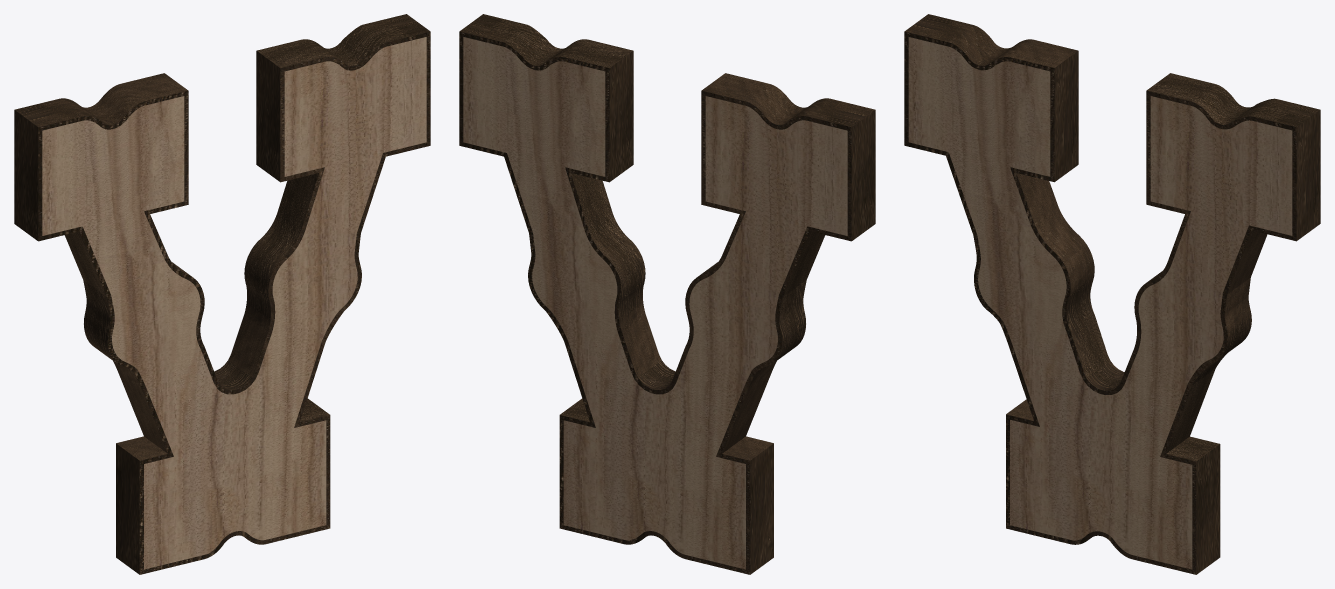
3 views of the same model, side by side, from view 1: azimuth 30°, elevation 25°; view 2: azimuth 150°, elevation 25°; view 3: azimuth 330°, elevation 25° (orthographic).
Parts seen in each view (by area): view 1: V, V_outline; view 2: V, V_outline; view 3: V, V_outline.
Part boxes in pixels (x1,y1,x2,y2): V: (42,37,426,569); V_outline: (14,14,430,574); V: (463,37,847,569); V_outline: (459,14,875,574); V: (908,37,1292,569); V_outline: (904,14,1320,574).
Size of the model in its own units: 94.55 by 109 by 10.
2 materials, 2 textured.
